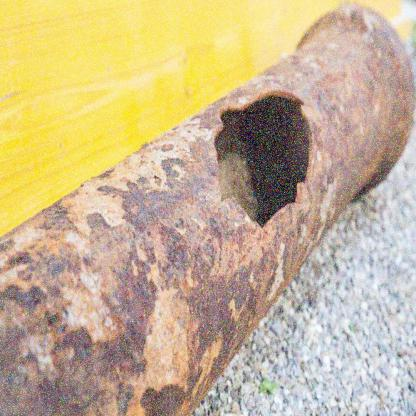burst: (210, 94, 318, 223)
